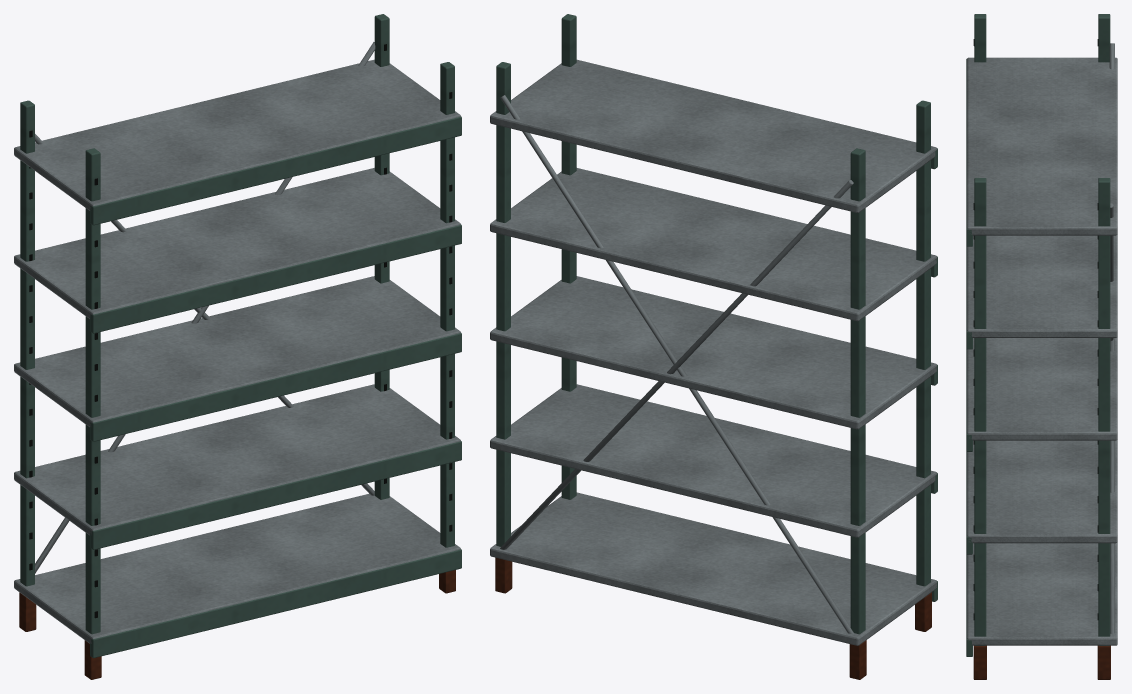
File: Lab_StorageShelf.fbx
The picture shows the model from 3 angles, left to right: view 1: azimuth 30°, elevation 25°; view 2: azimuth 150°, elevation 25°; view 3: azimuth 270°, elevation 25°; orthographic projection. The views are drawn at different scales.
Visible parts, largest first — view 1: Lab_StorageShelf_prop; view 2: Lab_StorageShelf_prop; view 3: Lab_StorageShelf_prop.
Part boxes in pixels (left/top/right/bottom): Lab_StorageShelf_prop: left=14, top=14, right=461, bottom=679; Lab_StorageShelf_prop: left=490, top=14, right=937, bottom=679; Lab_StorageShelf_prop: left=966, top=14, right=1117, bottom=679.
Size of the model in its own units: 1.5 by 2.04 by 0.5625.
4 materials, 4 textured.
